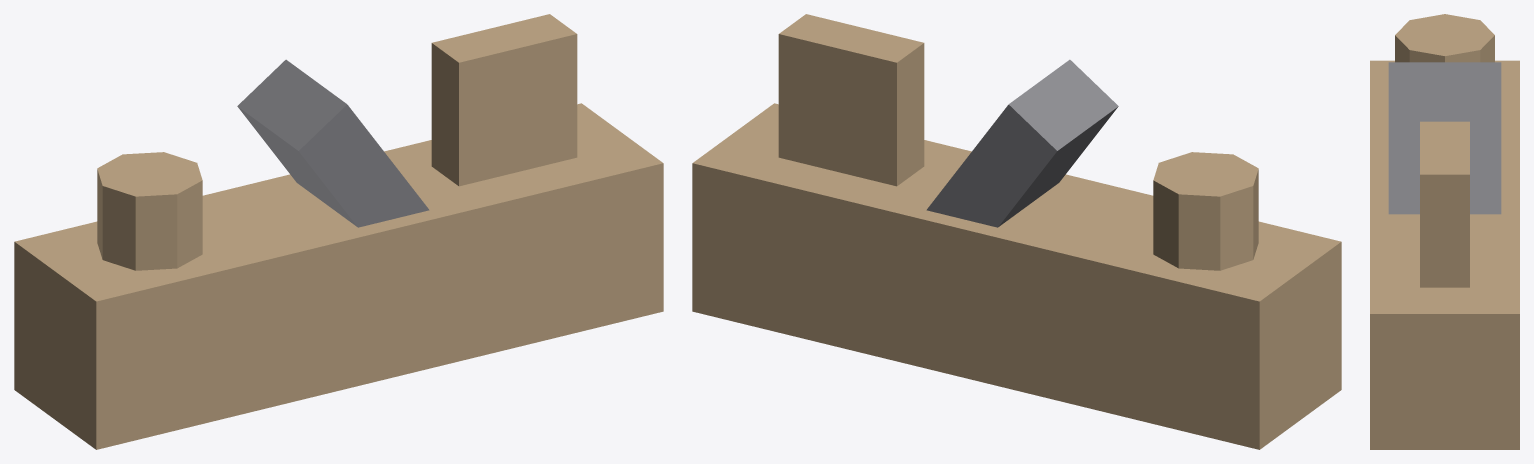
The model's file is prop-plane-wood.fbx.
3 views of the same model, side by side, from view 1: azimuth 30°, elevation 25°; view 2: azimuth 150°, elevation 25°; view 3: azimuth 270°, elevation 25° (orthographic). The views are drawn at different scales.
Visible parts, largest first — view 1: prop-plane-wood; view 2: prop-plane-wood; view 3: prop-plane-wood.
Part boxes in pixels (x1,y1,x2,y2): prop-plane-wood: [14, 14, 663, 449]; prop-plane-wood: [692, 14, 1341, 449]; prop-plane-wood: [1370, 14, 1519, 449].
Size of the model in its own units: 24 by 11.09 by 6.
